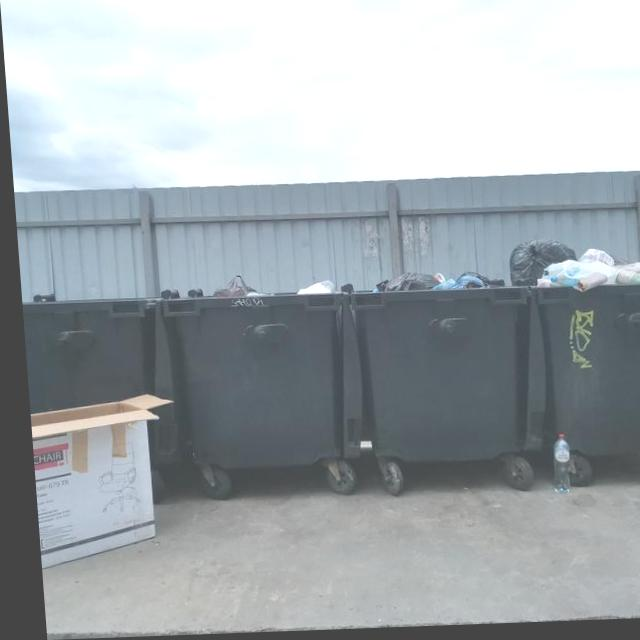Trash_Can_Empty: (18, 294, 152, 413)
Trash_Can_Full: (154, 273, 346, 474), (345, 271, 536, 467), (532, 242, 640, 461)
